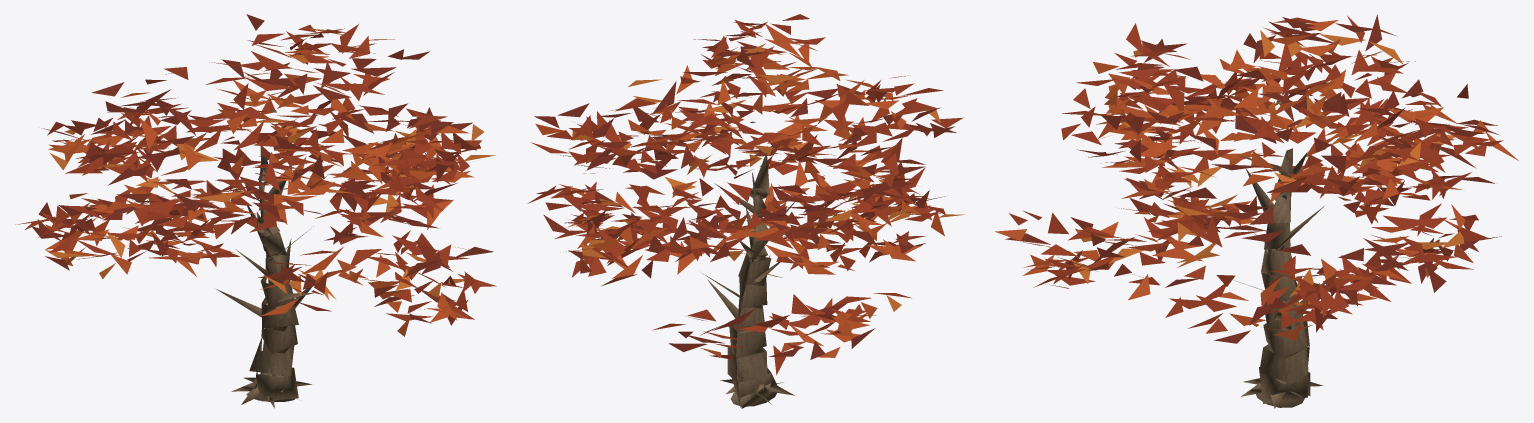
File: maple-tree.glb
The picture shows the model from 3 angles, left to right: view 1: azimuth 30°, elevation 25°; view 2: azimuth 150°, elevation 25°; view 3: azimuth 270°, elevation 25°; orthographic projection. The views are drawn at different scales.
Visible parts, largest first — view 1: 红枫 · 立体叶冠, 红枫 · 树干与枝系; view 2: 红枫 · 立体叶冠, 红枫 · 树干与枝系; view 3: 红枫 · 立体叶冠, 红枫 · 树干与枝系.
Part boxes in pixels (x1,y1,x2,y2): 红枫 · 立体叶冠: [15, 14, 496, 336]; 红枫 · 树干与枝系: [216, 110, 313, 408]; 红枫 · 立体叶冠: [527, 14, 964, 375]; 红枫 · 树干与枝系: [702, 121, 794, 408]; 红枫 · 立体叶冠: [995, 14, 1518, 343]; 红枫 · 树干与枝系: [1236, 101, 1325, 408].
Bounding box in the file's own units: 7.73 × 6.17 × 8.41.
5 materials, 1 textured.
